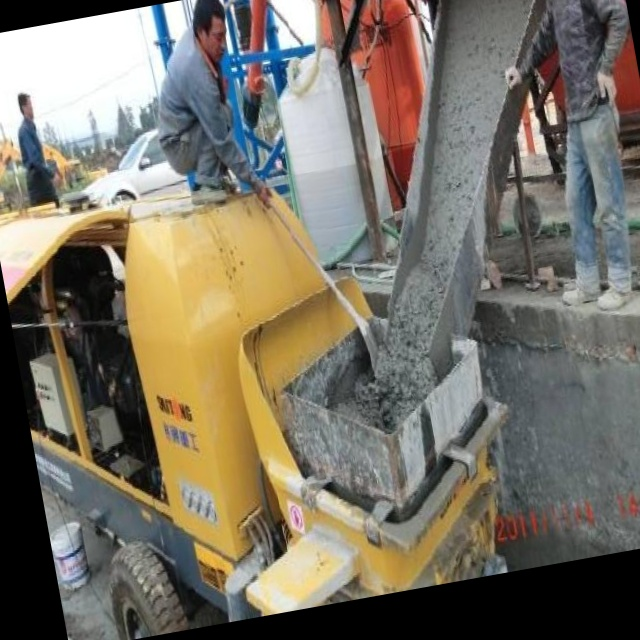Sin_Casco_Mascarrilla: (189, 0, 235, 65)
